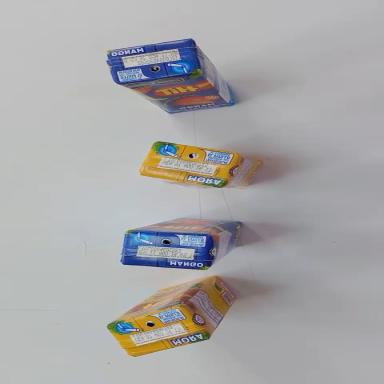HIT-MANGO: (105, 34, 233, 121), (121, 215, 242, 272)
HIT-MORA: (102, 272, 242, 361), (139, 138, 262, 194)
cara_F: (116, 68, 231, 120), (102, 275, 220, 325), (127, 215, 241, 239)
